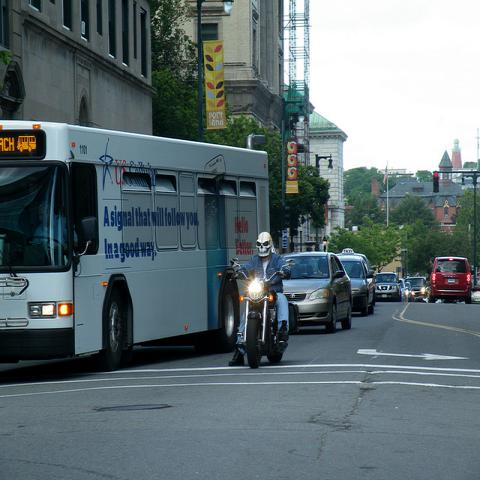bus: (1, 118, 270, 364)
car: (283, 255, 401, 336), (336, 251, 374, 315), (429, 256, 473, 306), (400, 279, 411, 301)
motorcycle: (223, 256, 297, 368)
truck: (404, 277, 427, 302)
